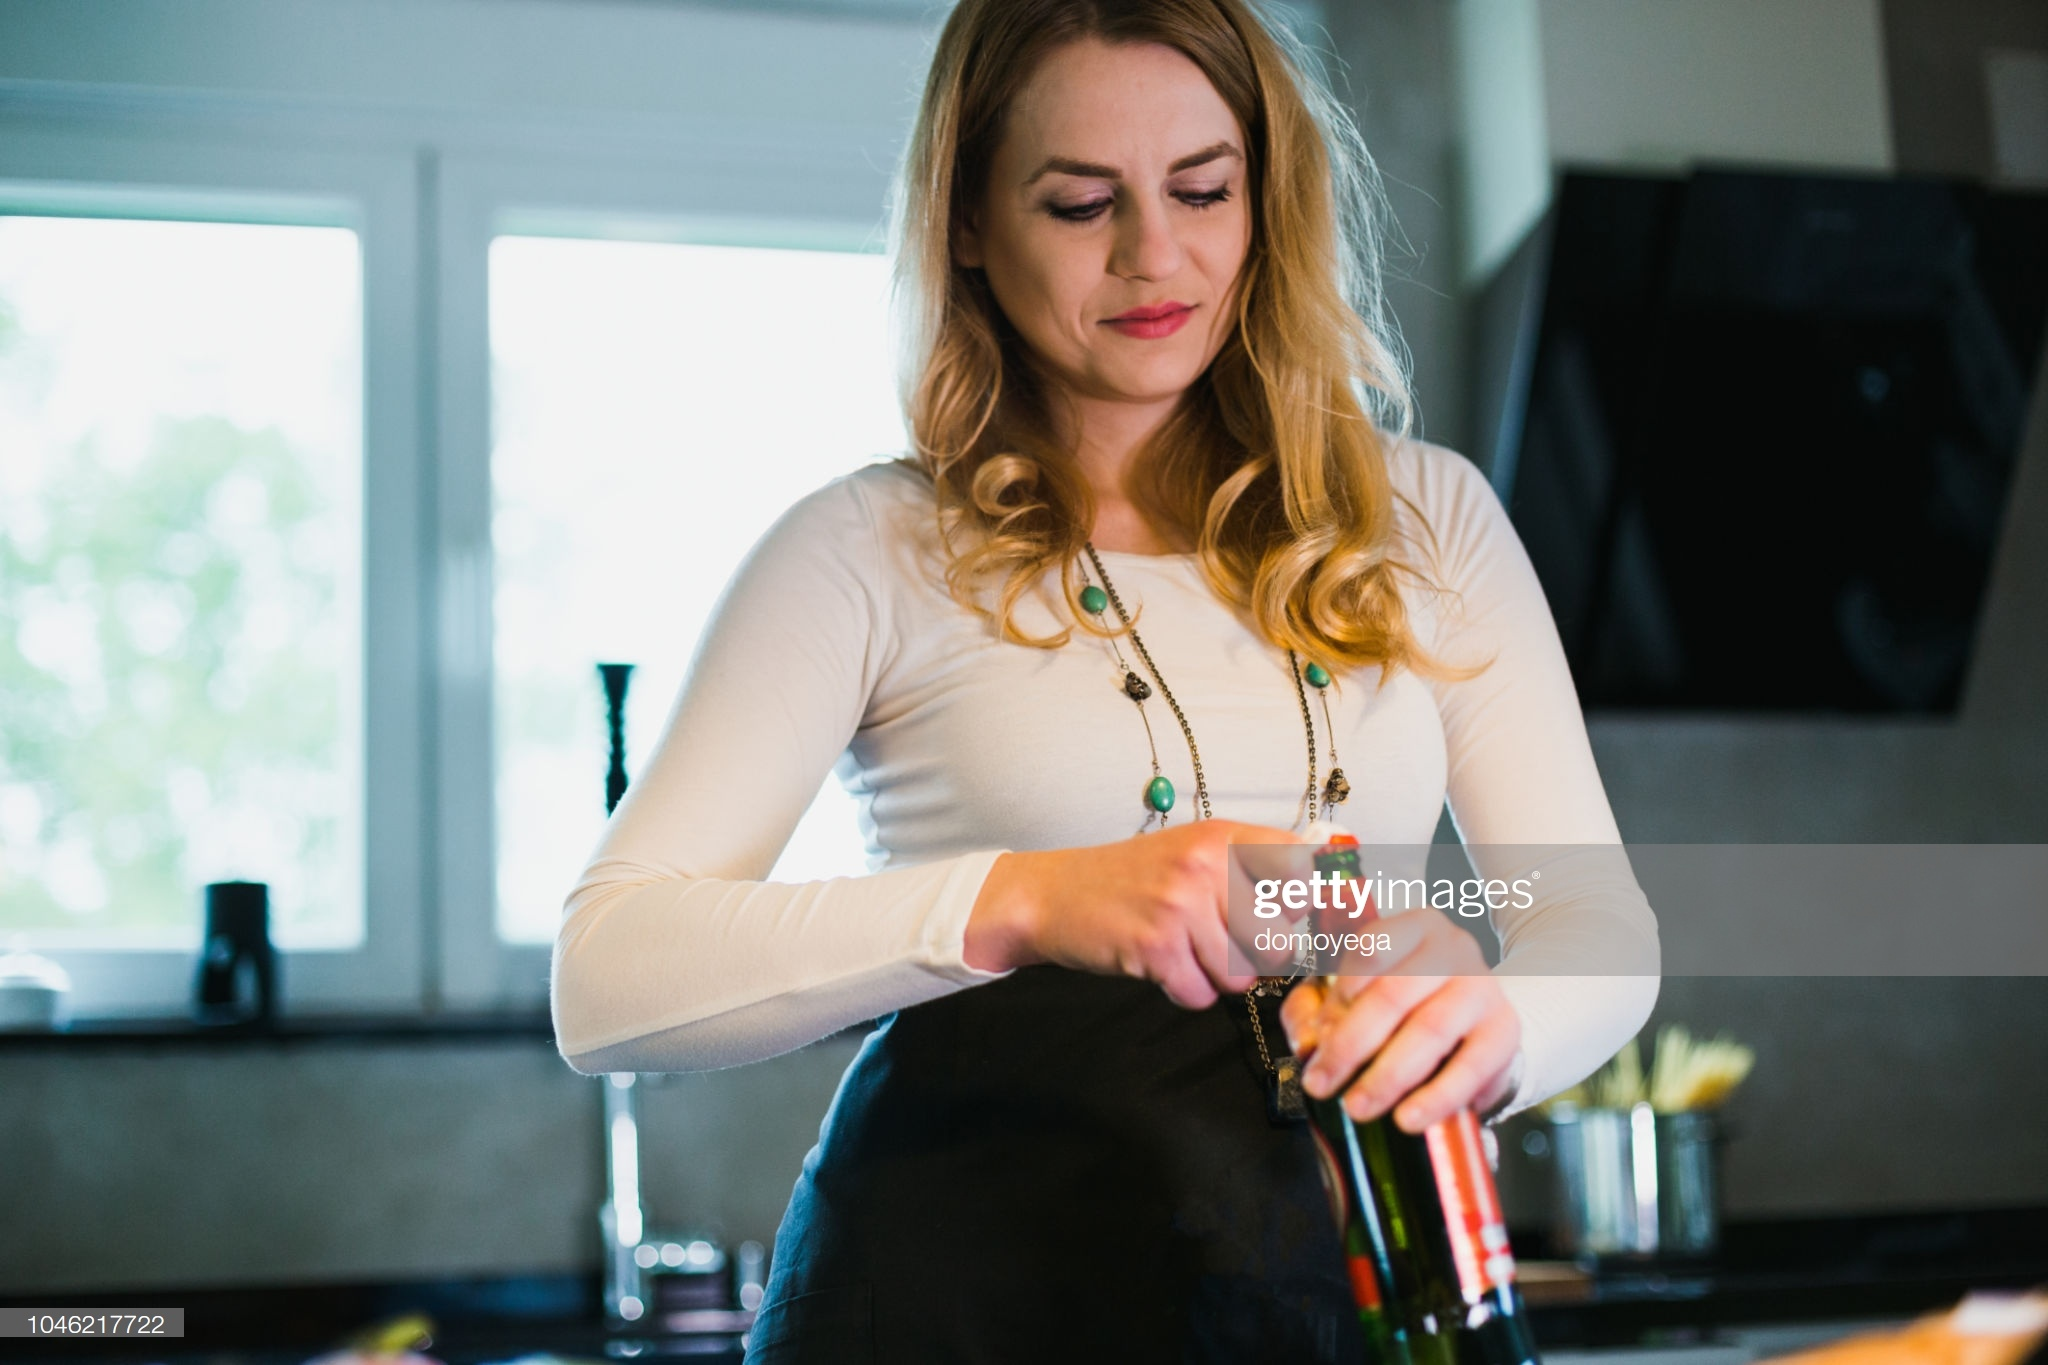beerBottle: (1285, 847, 1533, 1365)
